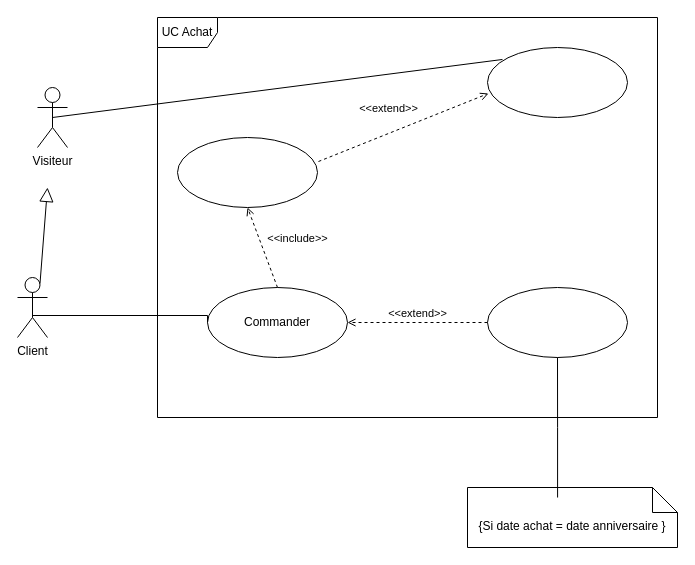
Image size: 695x565. Some labels were removed from this diagram. Each missing label, with the centre of its shape:
"Ajouter au panier" belongs at point 247,172.
"Consulter produit" belongs at point 557,82.
"Recevoir un cadeau" belongs at point 557,322.
